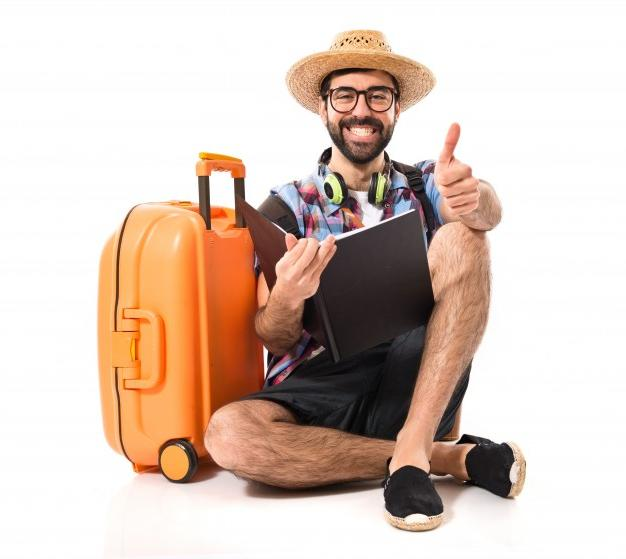thumbsup: (436, 121, 481, 216)
